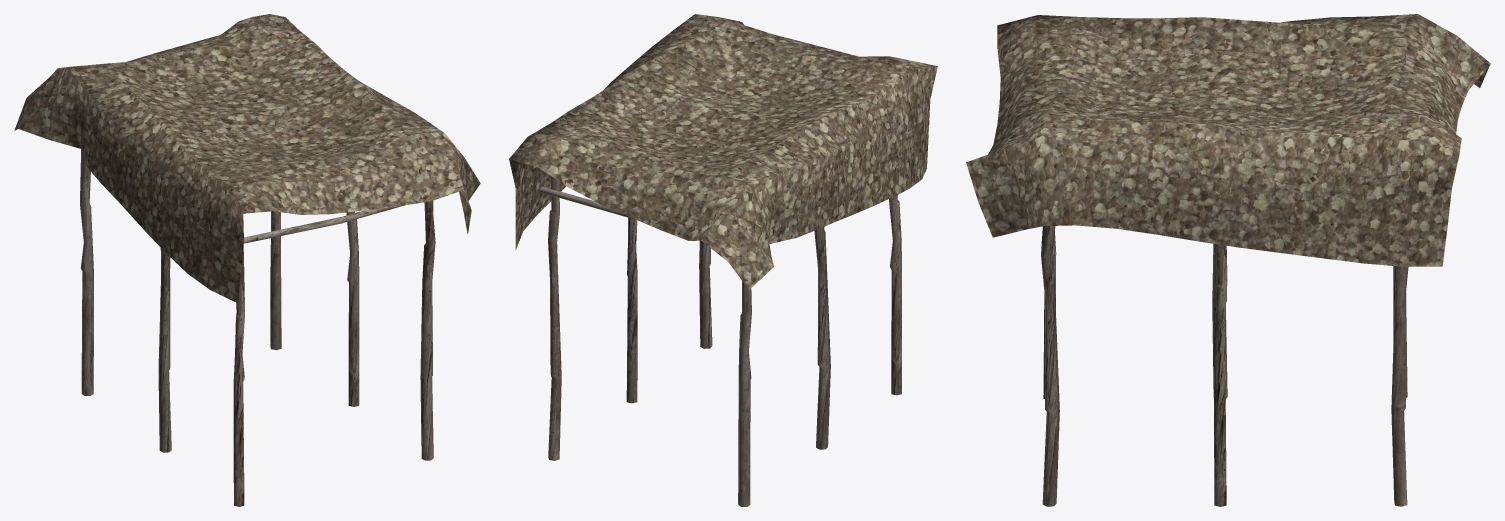
The model's file is Cammo1.fbx.
3 views of the same model, side by side, from view 1: azimuth 30°, elevation 25°; view 2: azimuth 150°, elevation 25°; view 3: azimuth 270°, elevation 25° (orthographic). The views are drawn at different scales.
Visible parts, largest first — view 1: polySurface76; view 2: polySurface76; view 3: polySurface76.
Boxes of the visible parts, bbox=[...] form: polySurface76: bbox=[14, 14, 480, 506]; polySurface76: bbox=[509, 14, 937, 506]; polySurface76: bbox=[966, 14, 1490, 506].
Bounding box in the file's own units: 3.56 × 3.86 × 4.83.
